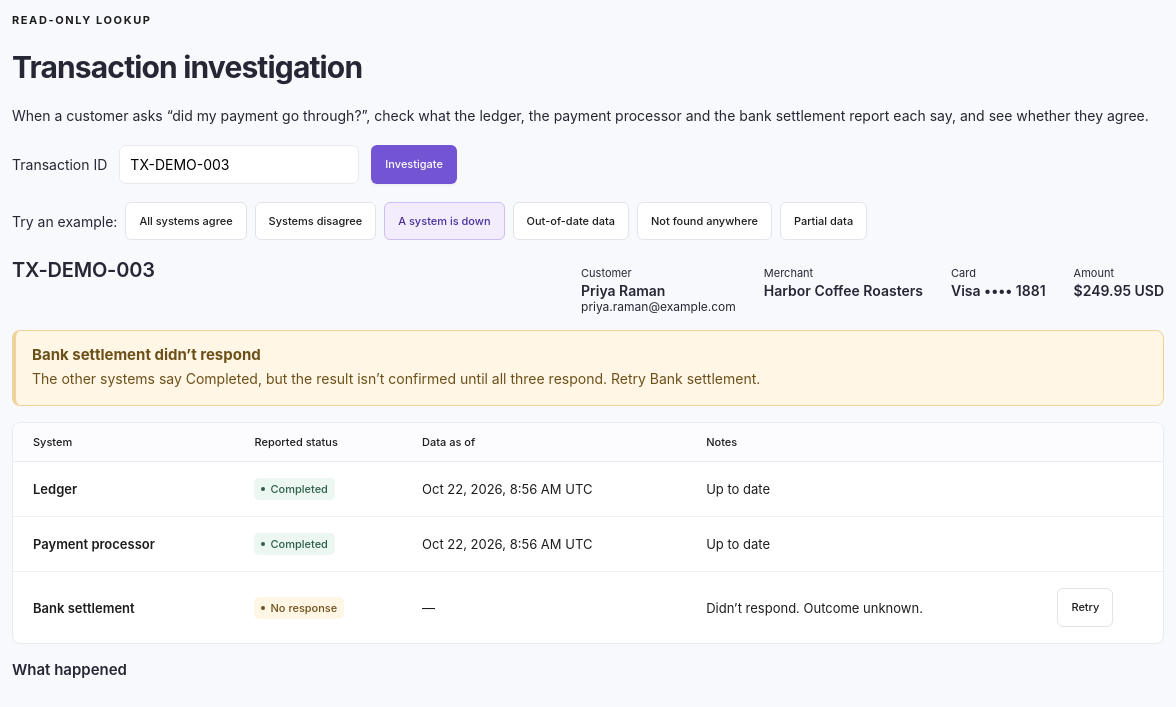
Test: fourth-tool custom view › keeps synthetic partial failure separate from a transaction outcome and retries only its source
This screenshot has width=1176, height=707.
Click the button "Investigate" at {"x": 414, "y": 164}, box [371, 145, 457, 184]
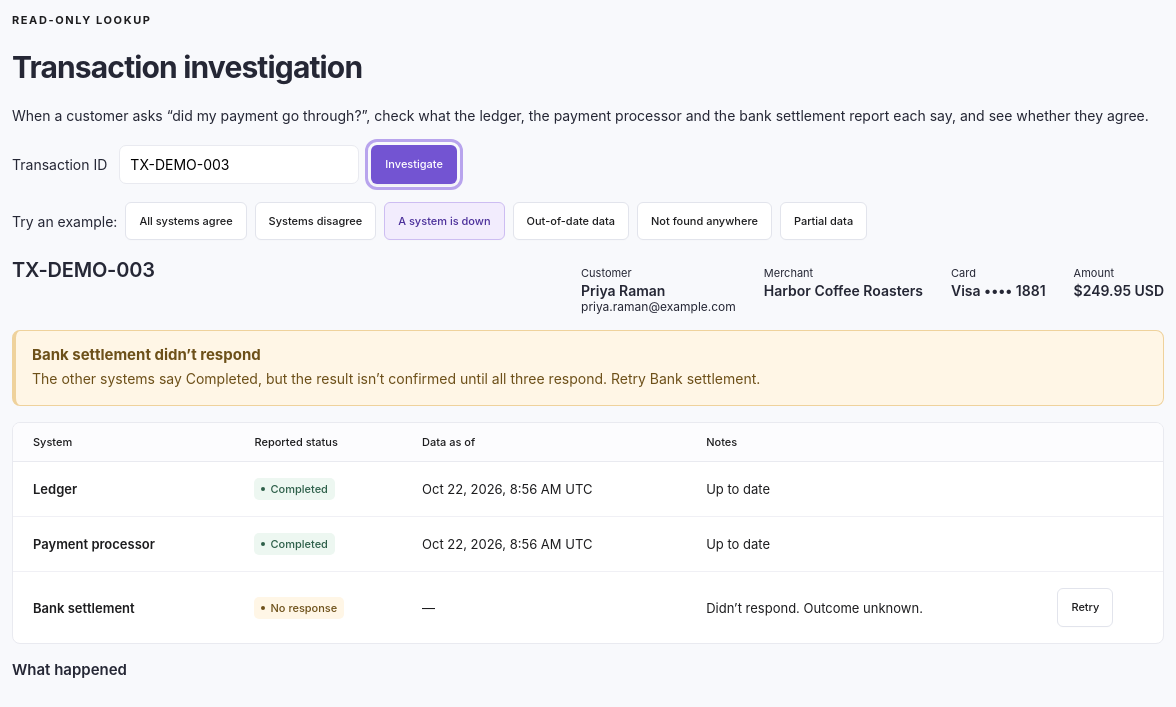
Check: the text "No response" is shown, box [254, 597, 344, 619]
Check: the text "Completed" is shown 2 times, box [254, 478, 335, 500]; [254, 533, 335, 556]
Click the button with aria-label "Retry Bank settlement" at {"x": 1085, "y": 608}, box [1057, 588, 1113, 627]
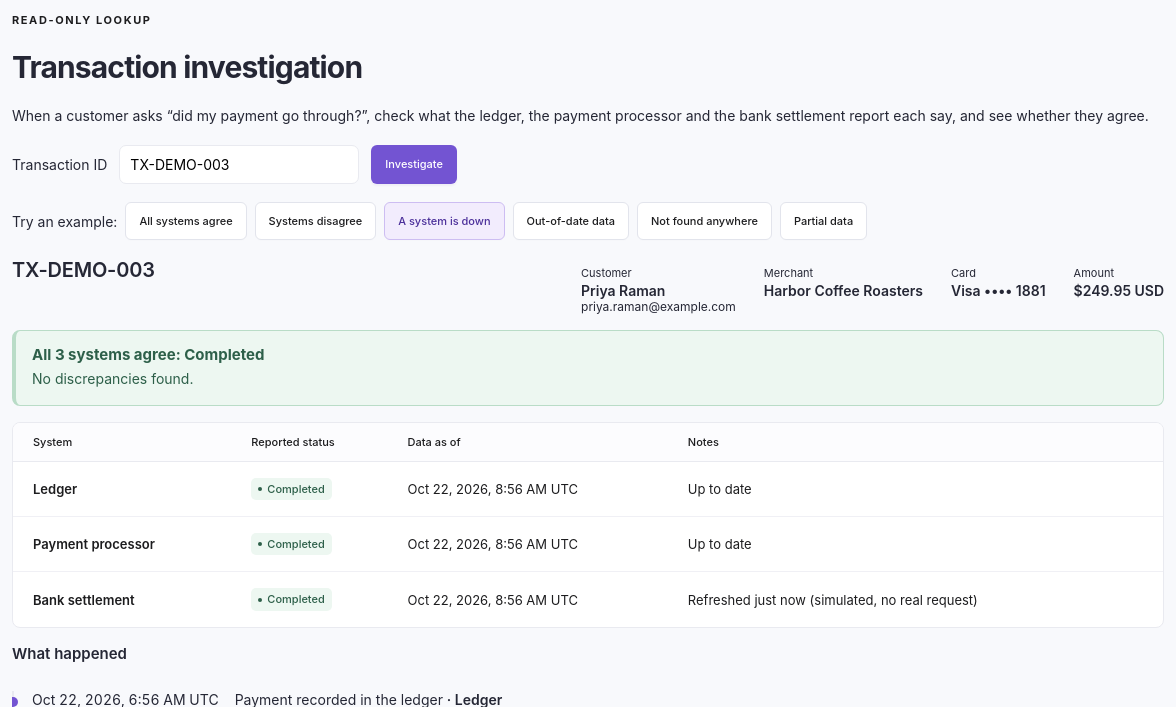
Check: the text "Completed" is shown 3 times, box [251, 478, 332, 500]; [251, 533, 332, 556]; [251, 588, 332, 611]
Check: the text "No response" is gone
